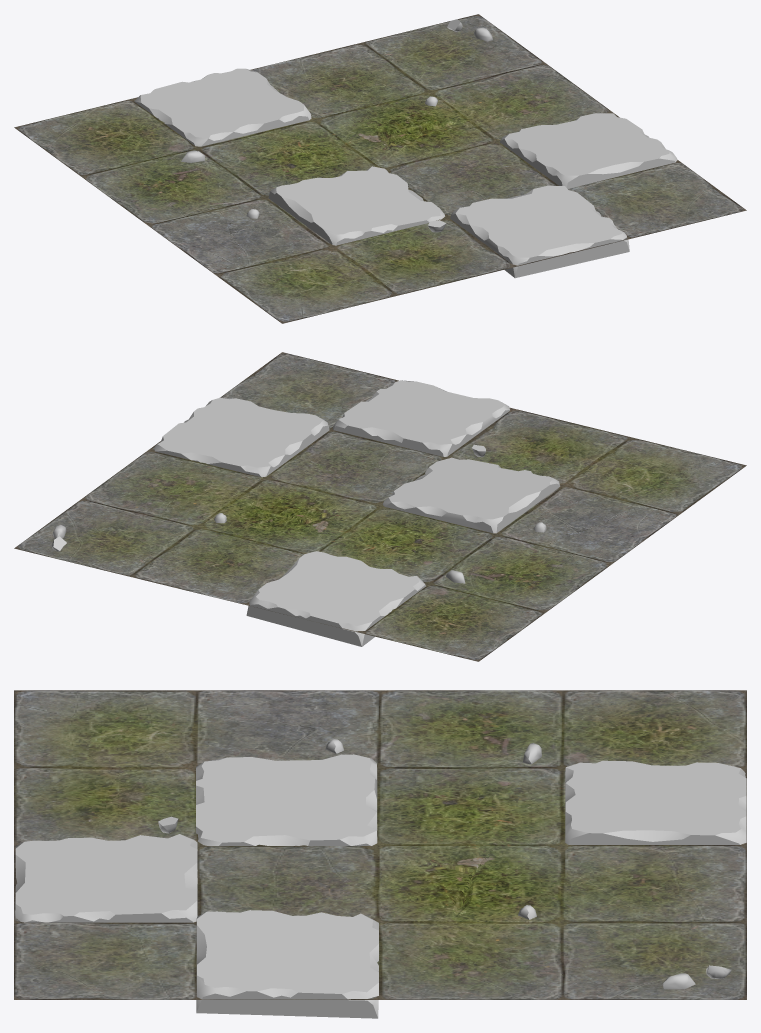
Rendered from Floor_Lvl3_20.fbx.
3 renders of one model, top to bottom at view 1: azimuth 30°, elevation 25°; view 2: azimuth 150°, elevation 25°; view 3: azimuth 270°, elevation 25°, orthographic. The views are drawn at different scales.
Parts seen in each view (by area): view 1: StoneFloor.002; view 2: StoneFloor.002; view 3: StoneFloor.002.
Part boxes in pixels (left/top/right/bottom): StoneFloor.002: left=14, top=14, right=746, bottom=323; StoneFloor.002: left=14, top=352, right=746, bottom=661; StoneFloor.002: left=14, top=690, right=746, bottom=1018.
Bounding box in the file's own units: 382 × 20.6 × 382.
